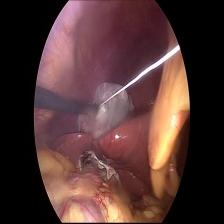Specimen Bag: (86, 84, 136, 139)
